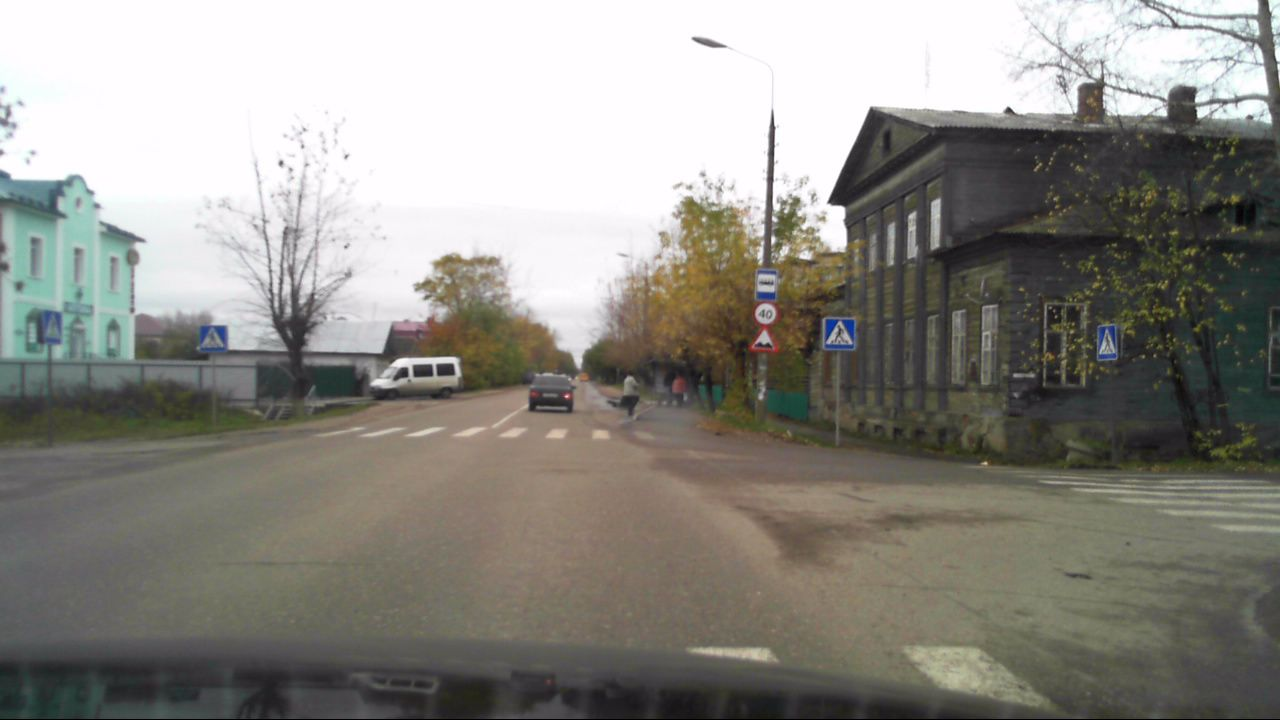speed_warning_40: (752, 302, 777, 326)
